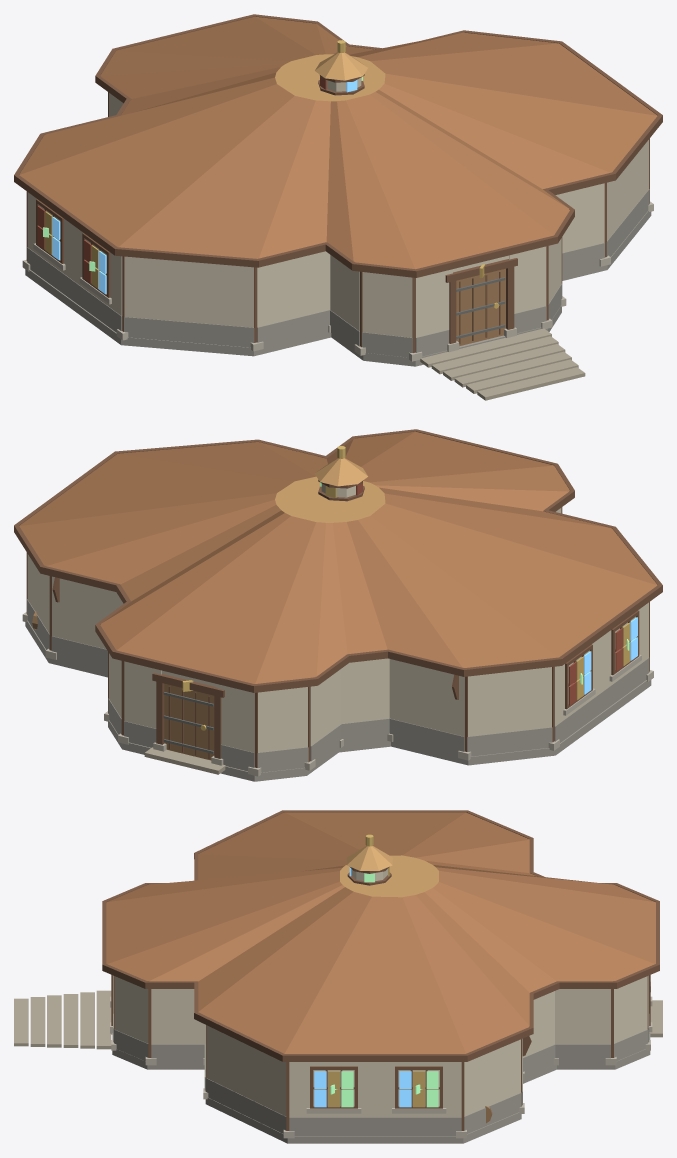
File: holm_guide_hall_v5.glb
3 views of the same model, one above another, from view 1: azimuth 30°, elevation 25°; view 2: azimuth 150°, elevation 25°; view 3: azimuth 270°, elevation 25° (orthographic). The views are drawn at different scales.
Parts seen in each view (by area): view 1: Roof_Russet_Roof, Static_Warm_Plaster, Static_Stone, Roof_Dark_Timber, Static_Path_Stone, Static_Dark_Timber, front_door_Furnishing_Wood, Static_Stone_Light, Roof_Roof_Highlight, Static_Glass_Sapphire, Static_Guide_Brass, Static_Compass_Red; view 2: Roof_Russet_Roof, Static_Warm_Plaster, Static_Stone, Roof_Dark_Timber, Static_Dark_Timber, teaching_door_Furnishing_Wood, Static_Stone_Light, Roof_Roof_Highlight, Static_Path_Stone, Static_Guide_Brass, Static_Glass_Sapphire, Static_Compass_Red (+1 smaller); view 3: Roof_Russet_Roof, Static_Warm_Plaster, Static_Stone, Roof_Dark_Timber, Static_Path_Stone, Static_Dark_Timber, Static_Stone_Light, Static_Glass_Moss, Static_Glass_Sapphire, Roof_Roof_Highlight, Static_Guide_Brass.
Boxes of the visible parts, x1=… form: Roof_Russet_Roof: x1=19, y1=16, x2=657, y2=269; Static_Warm_Plaster: x1=27, y1=93, x2=648, y2=337; Static_Stone: x1=25, y1=189, x2=651, y2=366; Roof_Dark_Timber: x1=14, y1=14, x2=662, y2=277; Static_Path_Stone: x1=420, y1=328, x2=585, y2=400; Static_Dark_Timber: x1=26, y1=92, x2=649, y2=352; front_door_Furnishing_Wood: x1=456, y1=268, x2=505, y2=346; Static_Stone_Light: x1=22, y1=201, x2=653, y2=361; Roof_Roof_Highlight: x1=315, y1=52, x2=367, y2=80; Static_Glass_Sapphire: x1=52, y1=217, x2=106, y2=294; Static_Guide_Brass: x1=45, y1=211, x2=485, y2=288; Static_Compass_Red: x1=37, y1=206, x2=91, y2=283; Roof_Russet_Roof: x1=19, y1=431, x2=657, y2=683; Static_Warm_Plaster: x1=27, y1=508, x2=648, y2=752; Static_Stone: x1=25, y1=599, x2=651, y2=781; Roof_Dark_Timber: x1=14, y1=429, x2=662, y2=692; Static_Dark_Timber: x1=26, y1=507, x2=649, y2=767; teaching_door_Furnishing_Wood: x1=164, y1=683, x2=214, y2=760; Static_Stone_Light: x1=22, y1=612, x2=653, y2=776; Roof_Roof_Highlight: x1=315, y1=458, x2=367, y2=486; Static_Path_Stone: x1=144, y1=747, x2=225, y2=774; Static_Guide_Brass: x1=182, y1=622, x2=630, y2=700; Static_Glass_Sapphire: x1=583, y1=617, x2=637, y2=694; Static_Compass_Red: x1=569, y1=628, x2=622, y2=705; Roof_Russet_Roof: x1=106, y1=812, x2=655, y2=1053; Static_Warm_Plaster: x1=113, y1=975, x2=648, y2=1117; Static_Stone: x1=112, y1=1014, x2=650, y2=1143; Roof_Dark_Timber: x1=102, y1=810, x2=659, y2=1061; Static_Path_Stone: x1=14, y1=990, x2=662, y2=1049; Static_Dark_Timber: x1=111, y1=975, x2=650, y2=1130; Static_Stone_Light: x1=110, y1=982, x2=652, y2=1138; Static_Glass_Moss: x1=330, y1=1071, x2=438, y2=1107; Static_Glass_Sapphire: x1=314, y1=1071, x2=411, y2=1107; Roof_Roof_Highlight: x1=346, y1=846, x2=392, y2=870; Static_Guide_Brass: x1=328, y1=1071, x2=425, y2=1107.
Bounding box in the file's own units: 25.26 × 9.07 × 28.23.
